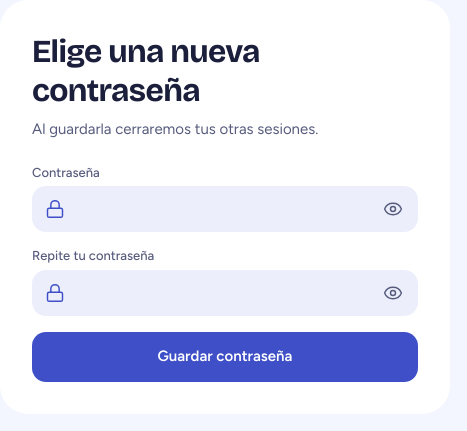
Scenario: shows the form for a valid link and the link problem if saving finds it expired
Type "clave-segura-1" into the password field labelled "Contraseña". click: (225, 209)
box: [32,186,418,232]
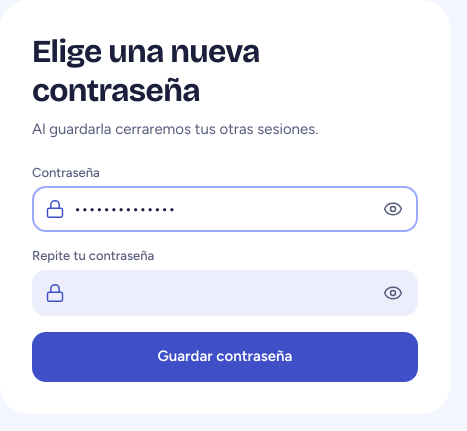
Type "clave-segura-1" into the password field labelled "Repite tu contraseña". click: (225, 293)
box: [32,270,418,316]
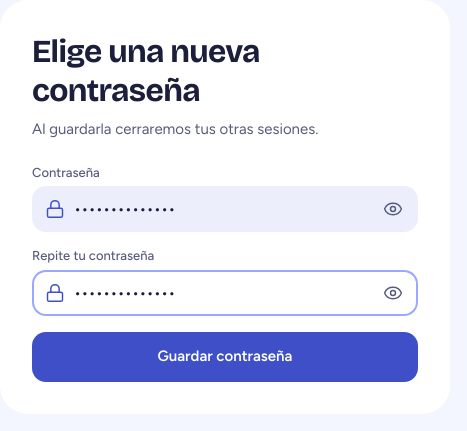
Click the button "Guardar contraseña". click: (225, 357)
box: [32,332,418,382]
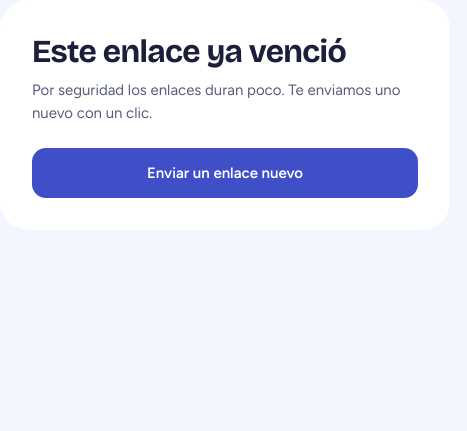
Expected: the heading "Este enlace ya venció" is shown, [32,32,346,71]
